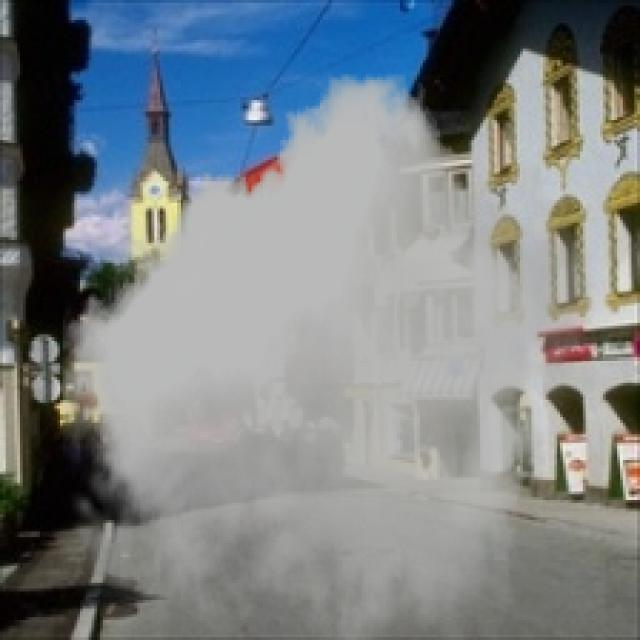Smoke: (54, 74, 609, 637)
